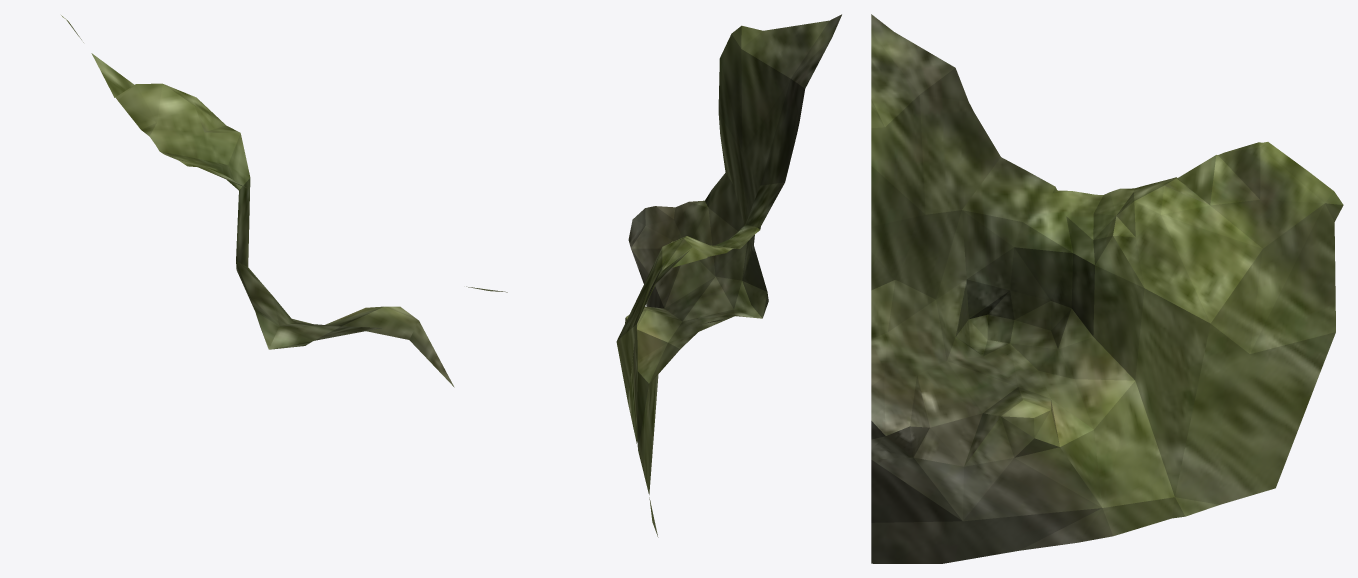
3 renders of one model, left to right at view 1: azimuth 30°, elevation 25°; view 2: azimuth 150°, elevation 25°; view 3: azimuth 270°, elevation 25°, orthographic. The views are drawn at different scales.
Bounding box in the file's own units: 1.01 × 1.94 × 1.75.
1 material, 1 textured.
